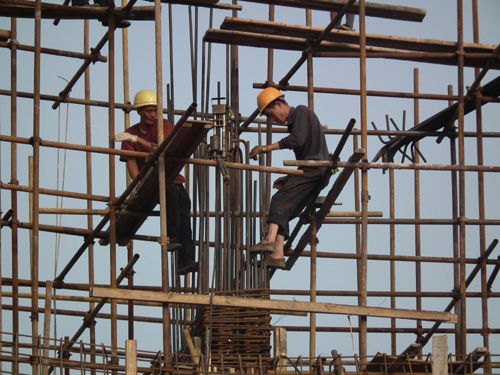safetyhat: (244, 78, 342, 213), (110, 83, 185, 165)
